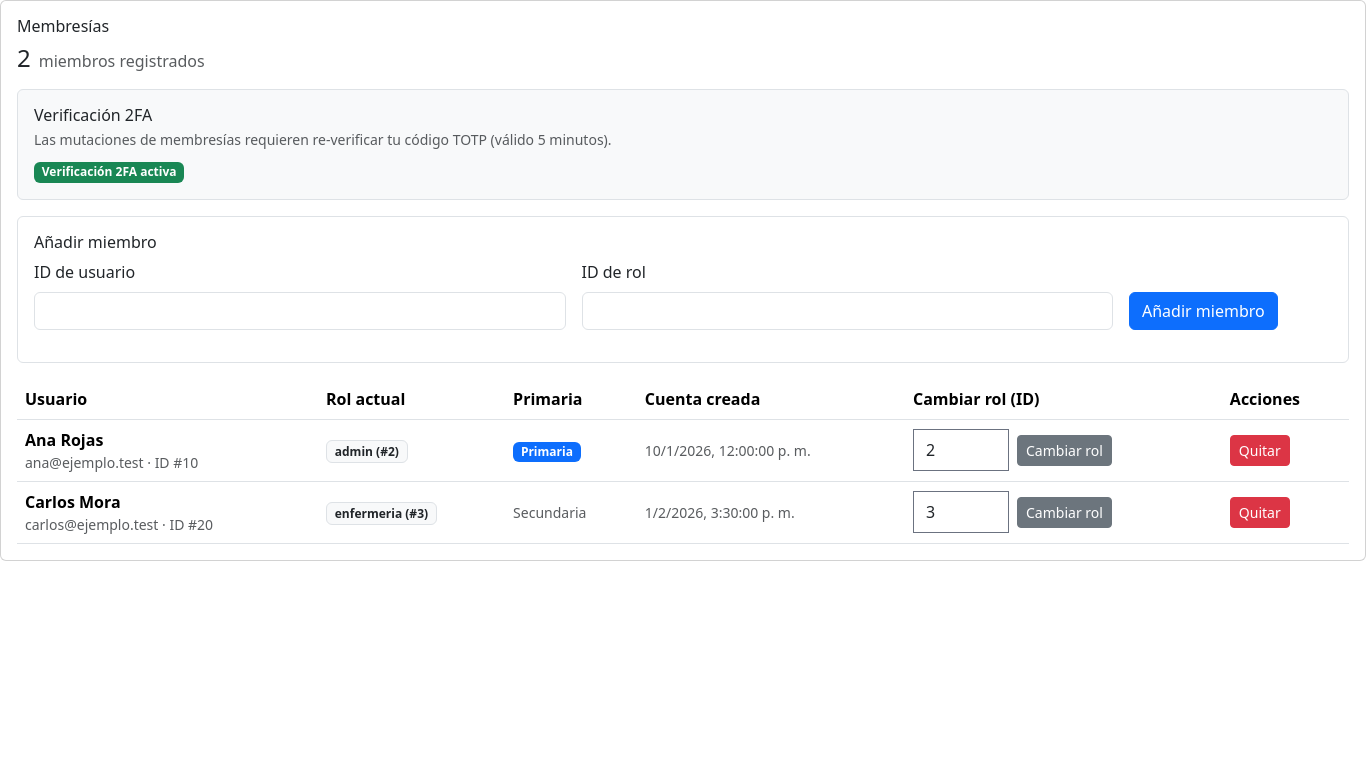
Test: PlatformOrganizationMembersSection › quita un miembro e informa si se promovió otra membresía primaria
This screenshot has width=1366, height=768.
Expected: the text "Ana Rojas" is shown, top-left (25, 429), bottom-right (103, 451)
Click the button "Quitar" in the row of "Ana Rojas".
click(1260, 450)  # box top-left (1230, 435), bottom-right (1290, 466)
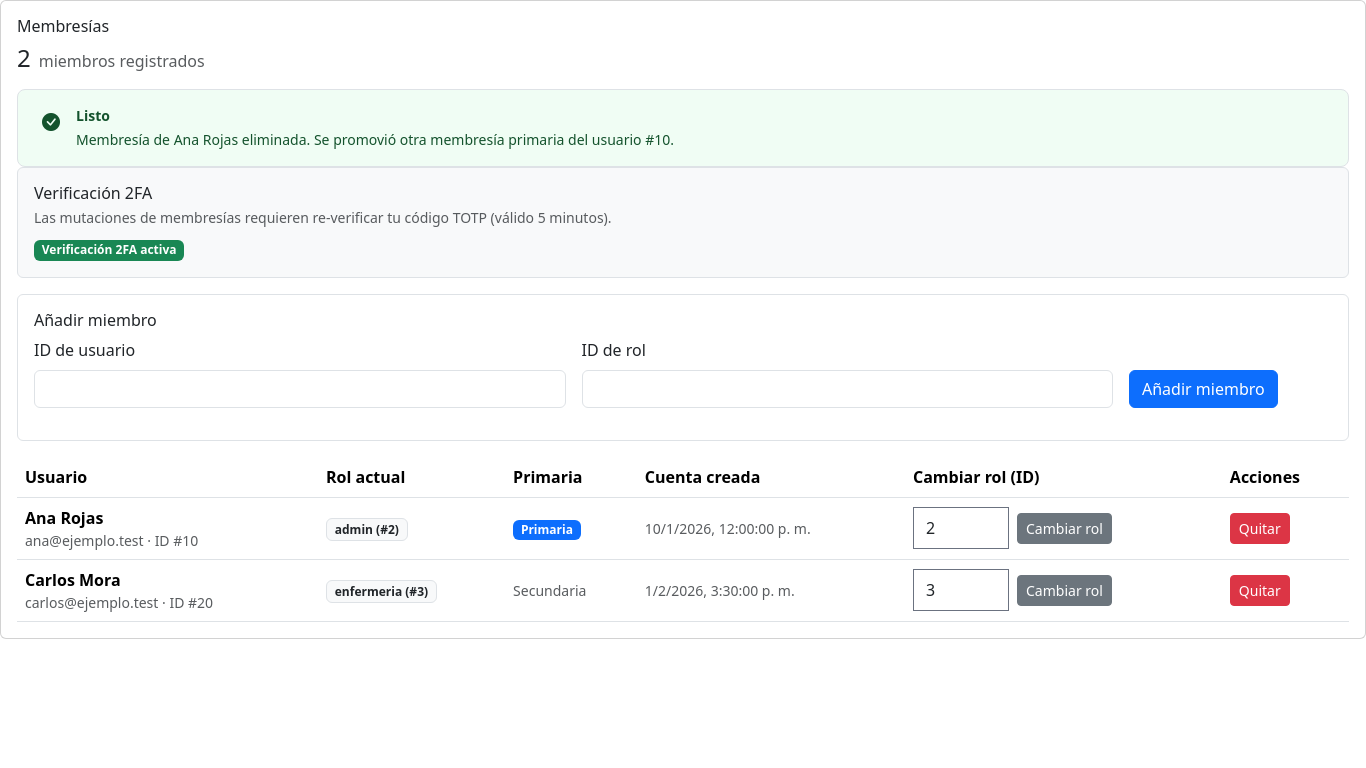
Result: the text "Membresía de Ana Rojas eliminada. Se promovió otra membresía primaria del usuario #10." is shown at top-left (76, 130), bottom-right (674, 149)
